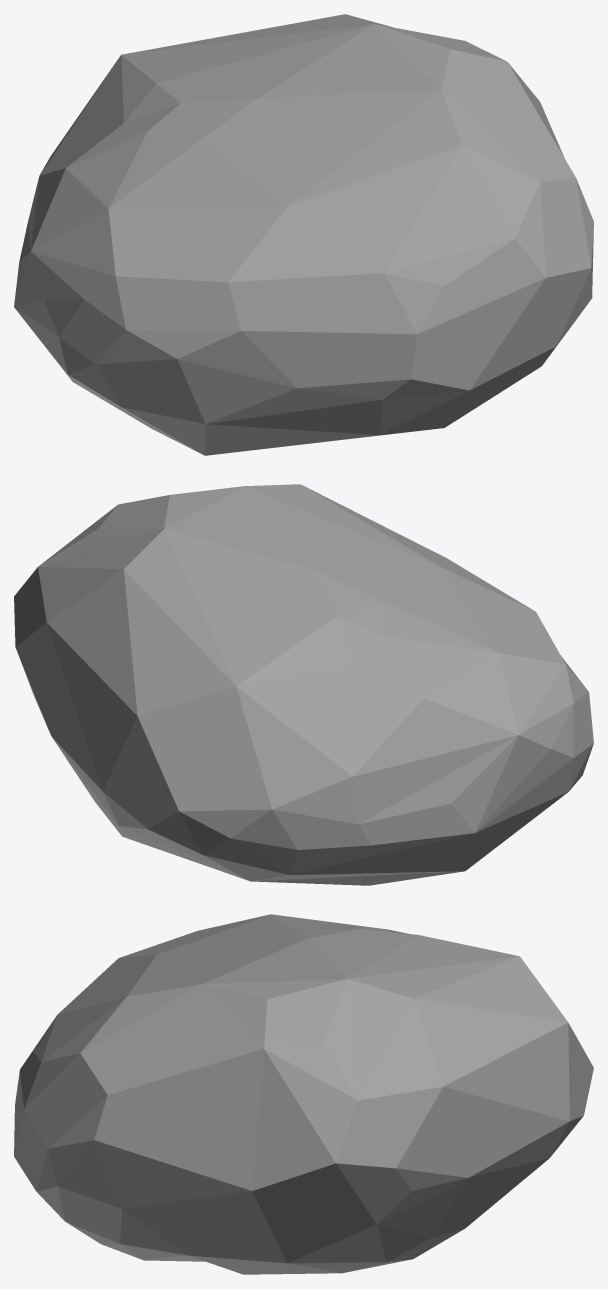
File: Rock_016.fbx
The picture shows the model from 3 angles, top to bottom: view 1: azimuth 30°, elevation 25°; view 2: azimuth 150°, elevation 25°; view 3: azimuth 270°, elevation 25°; orthographic projection. The views are drawn at different scales.
Parts seen in each view (by area): view 1: Rock_016; view 2: Rock_016; view 3: Rock_016.
Boxes of the visible parts, box(x1,y1,x2,y2) form: Rock_016: box(14, 14, 593, 455); Rock_016: box(14, 484, 593, 885); Rock_016: box(14, 914, 593, 1274).
Size of the model in its own units: 43.02 by 42.33 by 25.65.
1 material, 1 textured.
